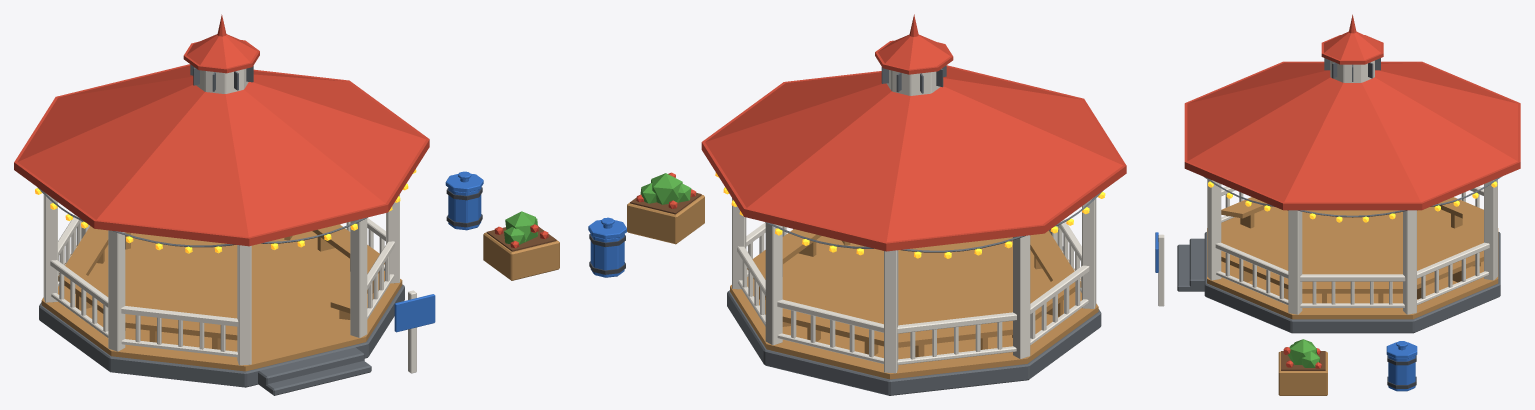
Rendered from park-gazebo.glb.
The picture shows the model from 3 angles, left to right: view 1: azimuth 30°, elevation 25°; view 2: azimuth 150°, elevation 25°; view 3: azimuth 270°, elevation 25°; orthographic projection. The views are drawn at different scales.
Parts seen in each view (by area): view 1: Gazebo_Roof, Gazebo_Bench, Gazebo_Frame, Gazebo_Base, Planter_Box, Gazebo_Sign_Board, Bin_Body, Planter_Bush, Gazebo_StringLights_Wire, Gazebo_StringLights_Bulbs, Lid, Planter_Soil (+1 smaller); view 2: Gazebo_Roof, Gazebo_Bench, Gazebo_Frame, Gazebo_Base, Planter_Box, Planter_Bush, Bin_Body, Gazebo_StringLights_Wire, Gazebo_StringLights_Bulbs, Lid, Gazebo_CupolaWindows; view 3: Gazebo_Roof, Gazebo_Bench, Gazebo_Frame, Gazebo_Base, Planter_Box, Bin_Body, Planter_Bush, Gazebo_StringLights_Wire, Gazebo_Sign_Post, Lid, Gazebo_StringLights_Bulbs, Planter_Soil (+1 smaller).
Part boxes in pixels (x1=…): Gazebo_Roof: x1=14, y1=14, x2=429, y2=246; Gazebo_Bench: x1=41, y1=224, x2=402, y2=371; Gazebo_Frame: x1=43, y1=67, x2=399, y2=365; Gazebo_Base: x1=39, y1=284, x2=404, y2=395; Planter_Box: x1=483, y1=232, x2=559, y2=280; Gazebo_Sign_Board: x1=394, y1=294, x2=435, y2=332; Bin_Body: x1=448, y1=188, x2=481, y2=230; Planter_Bush: x1=504, y1=211, x2=537, y2=244; Gazebo_StringLights_Wire: x1=37, y1=187, x2=367, y2=247; Gazebo_StringLights_Bulbs: x1=35, y1=169, x2=416, y2=253; Lid: x1=445, y1=171, x2=483, y2=192; Planter_Soil: x1=486, y1=227, x2=556, y2=251; Gazebo_Roof: x1=701, y1=14, x2=1126, y2=251; Gazebo_Bench: x1=730, y1=229, x2=1098, y2=379; Gazebo_Frame: x1=732, y1=70, x2=1096, y2=373; Gazebo_Base: x1=727, y1=246, x2=1101, y2=395; Planter_Box: x1=627, y1=195, x2=704, y2=244; Planter_Bush: x1=640, y1=173, x2=691, y2=204; Bin_Body: x1=590, y1=234, x2=624, y2=277; Gazebo_StringLights_Wire: x1=765, y1=191, x2=1102, y2=252; Gazebo_StringLights_Bulbs: x1=715, y1=172, x2=1105, y2=258; Lid: x1=588, y1=217, x2=626, y2=239; Gazebo_CupolaWindows: x1=881, y1=65, x2=946, y2=93; Gazebo_Roof: x1=1184, y1=14, x2=1520, y2=210; Gazebo_Bench: x1=1207, y1=197, x2=1498, y2=319; Gazebo_Frame: x1=1207, y1=60, x2=1497, y2=314; Gazebo_Base: x1=1177, y1=232, x2=1500, y2=333; Planter_Box: x1=1278, y1=351, x2=1327, y2=395; Bin_Body: x1=1388, y1=355, x2=1415, y2=391; Planter_Bush: x1=1287, y1=339, x2=1319, y2=367; Gazebo_StringLights_Wire: x1=1203, y1=176, x2=1500, y2=217; Gazebo_Sign_Post: x1=1158, y1=234, x2=1164, y2=306; Lid: x1=1386, y1=341, x2=1417, y2=358; Gazebo_StringLights_Bulbs: x1=1208, y1=181, x2=1497, y2=222; Planter_Soil: x1=1281, y1=351, x2=1325, y2=370.
Size of the model in its own units: 37.6 by 23 by 29.58.
